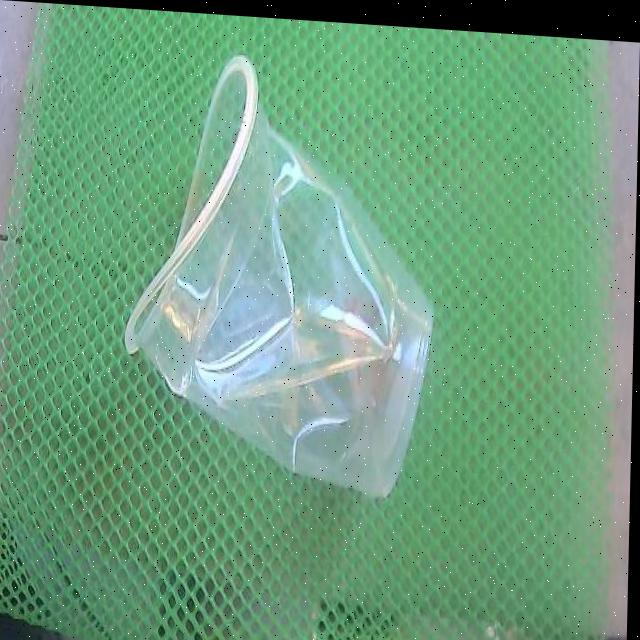cup: (127, 52, 433, 491)
